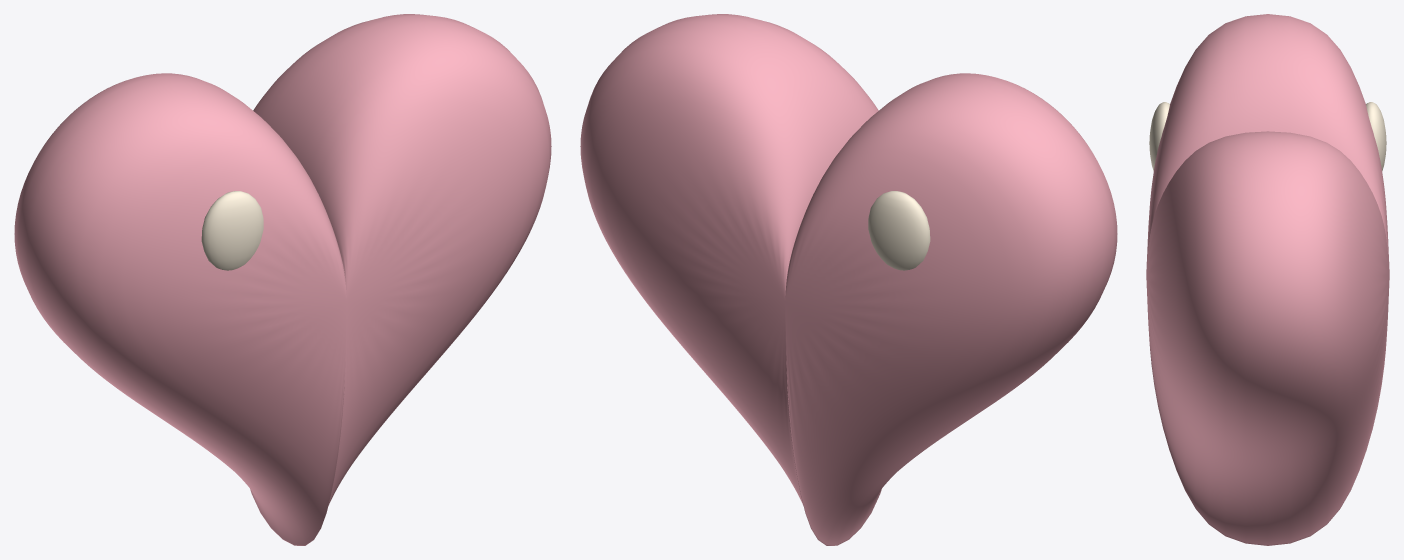
Rendered from heart_candy.glb.
3 renders of one model, left to right at view 1: azimuth 30°, elevation 25°; view 2: azimuth 150°, elevation 25°; view 3: azimuth 270°, elevation 25°, orthographic. The views are drawn at different scales.
Parts seen in each view (by area): view 1: heart_candy; view 2: heart_candy; view 3: heart_candy.
Boxes of the visible parts, x1,y1,x2,y2 form: heart_candy: [14, 14, 551, 545]; heart_candy: [580, 14, 1117, 545]; heart_candy: [1146, 14, 1389, 545].
Size of the model in its own units: 0.7 by 0.6334 by 0.3036.
